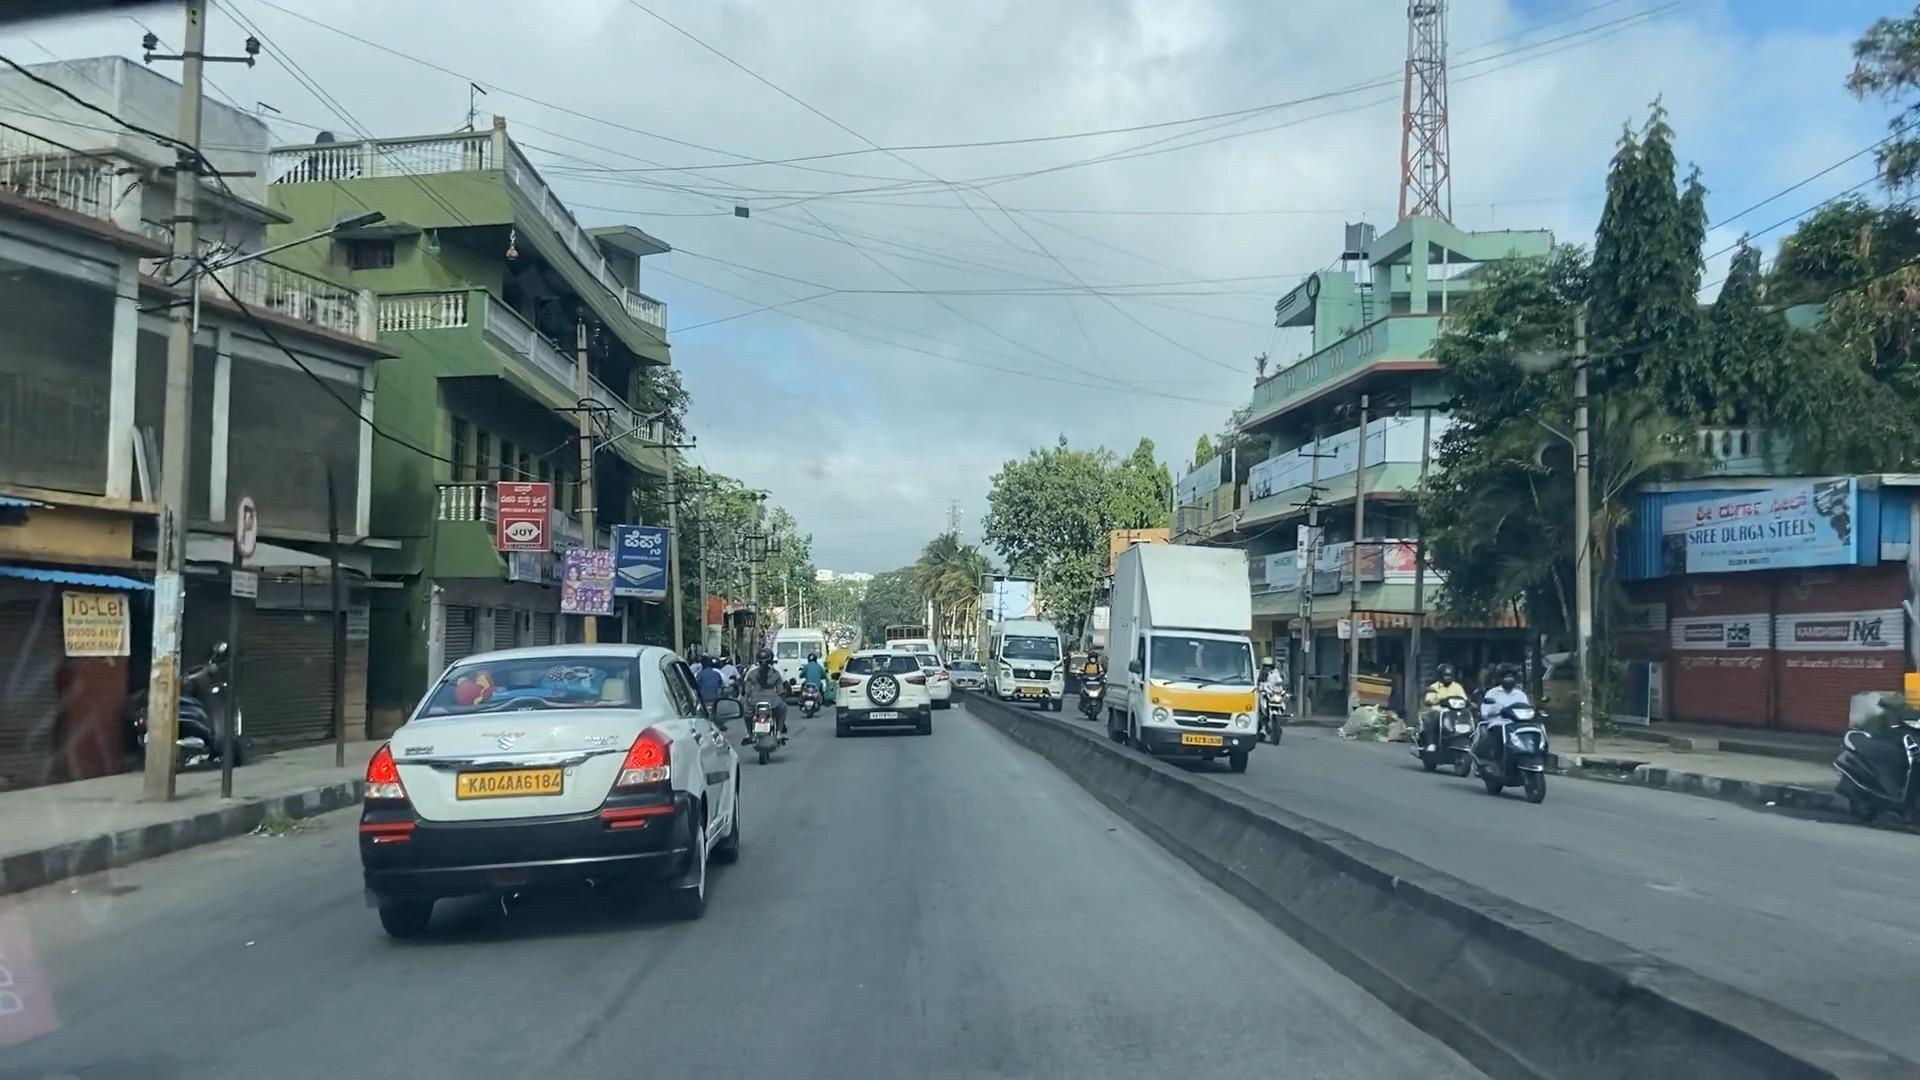LMV: (365, 654, 737, 947), (835, 653, 934, 740), (752, 650, 786, 765)
